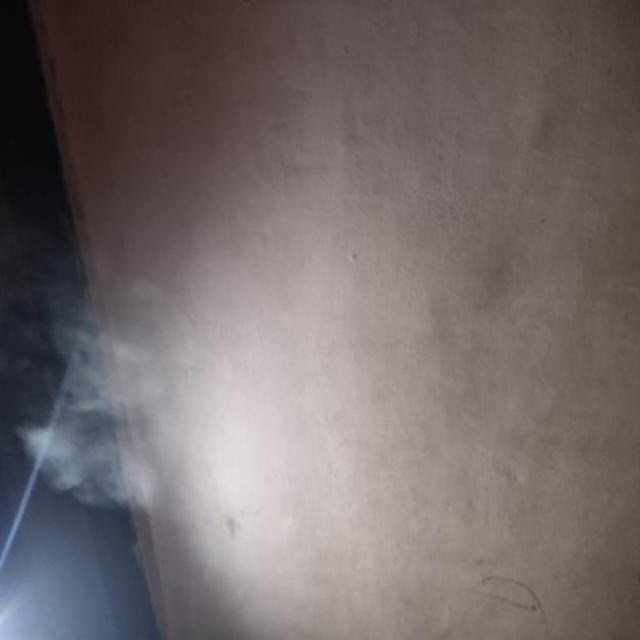fire: (14, 248, 478, 598)
